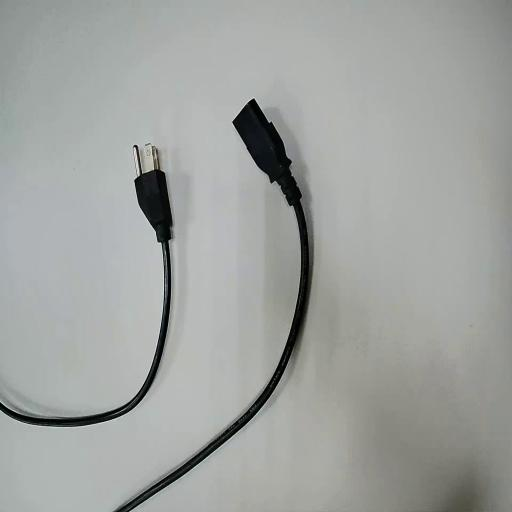wire: (117, 100, 310, 511), (0, 169, 171, 424)
